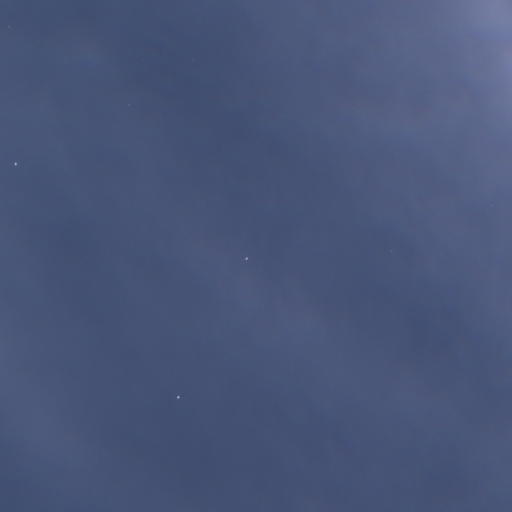Iceberg: (14, 162, 16, 165), (245, 257, 247, 259), (177, 396, 179, 398), (391, 250, 392, 251)
